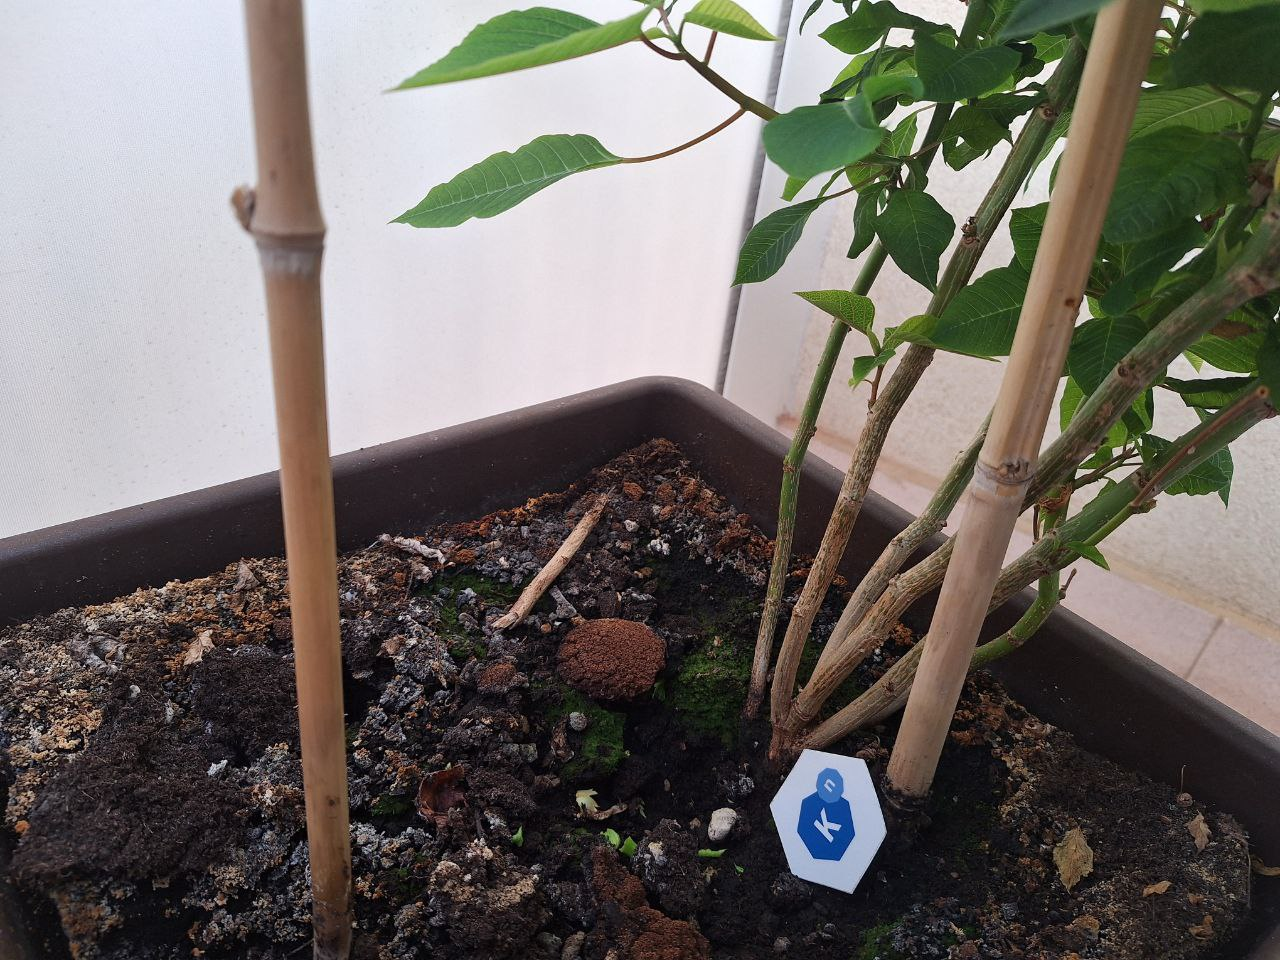knative: (797, 771, 857, 859)
